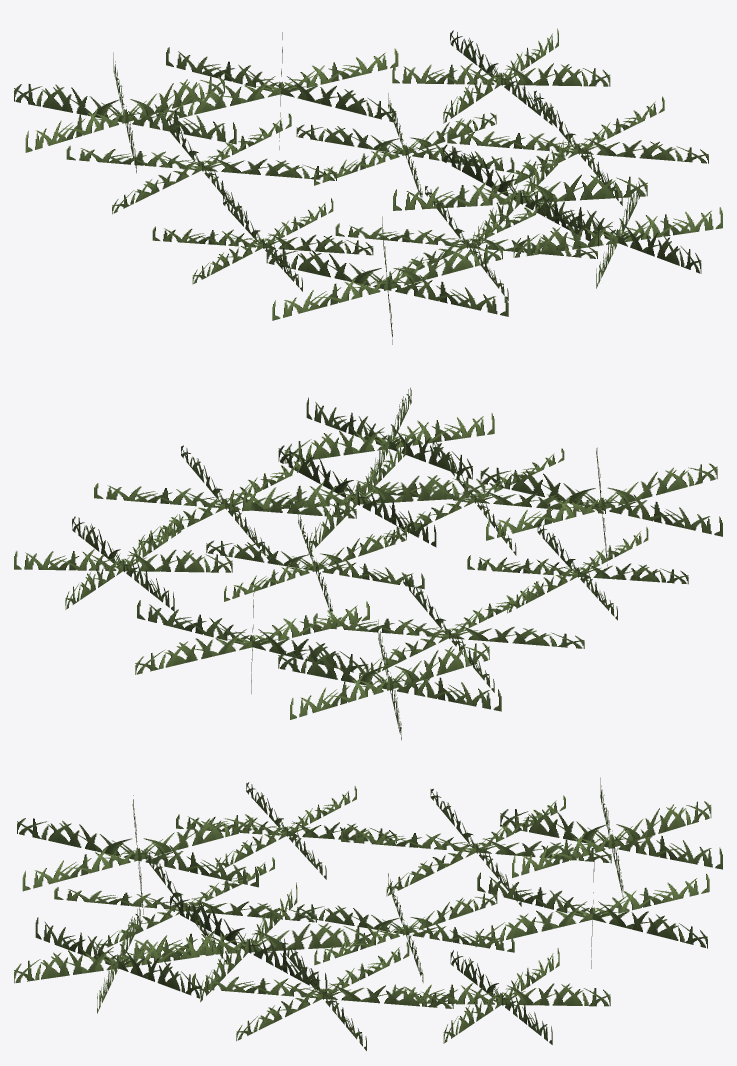
File: grass-fresh-protected.glb
3 views of the same model, one above another, from view 1: azimuth 30°, elevation 25°; view 2: azimuth 150°, elevation 25°; view 3: azimuth 270°, elevation 25° (orthographic).
Visible parts, largest first — view 1: grass-fresh-protected-blades; view 2: grass-fresh-protected-blades; view 3: grass-fresh-protected-blades.
Boxes of the visible parts, <box> form: grass-fresh-protected-blades: <box>14,28,722,344</box>; grass-fresh-protected-blades: <box>14,387,722,740</box>; grass-fresh-protected-blades: <box>14,777,722,1050</box>.
Bounding box in the file's own units: 1.11 × 0.053 × 1.28.
Materials: 1 (1 with a texture image).
